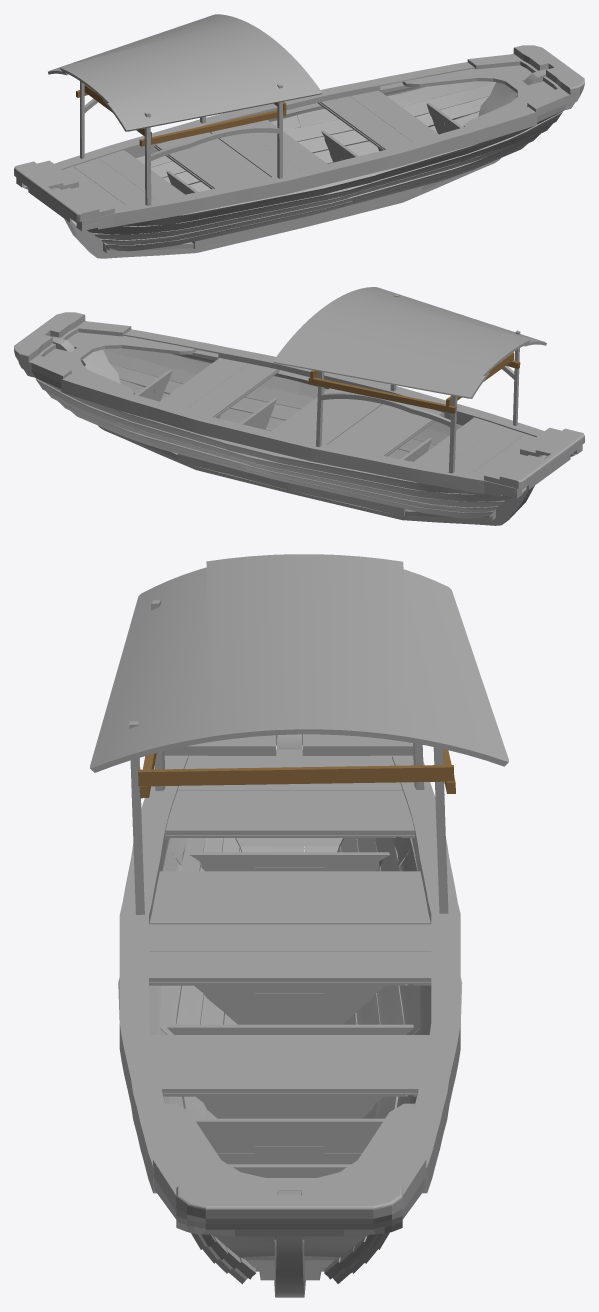
The model's file is SampanUse.fbx.
3 renders of one model, top to bottom at view 1: azimuth 30°, elevation 25°; view 2: azimuth 150°, elevation 25°; view 3: azimuth 270°, elevation 25°, orthographic. The views are drawn at different scales.
Parts seen in each view (by area): view 1: polySurface641, polySurface660, polySurface705, polySurface723, polySurface718, polySurface724, polySurface676, polySurface710, polySurface665, polySurface712, polySurface663, polySurface682 (+38 smaller); view 2: polySurface641, polySurface705, polySurface660, polySurface723, polySurface718, polySurface724, polySurface679, polySurface664, polySurface711, polySurface666, polySurface709, polySurface665 (+38 smaller); view 3: polySurface641, polySurface718, polySurface705, polySurface660, polySurface724, polySurface657, polySurface702, polySurface673, polySurface649, polySurface688, polySurface699, polySurface725 (+33 smaller).
Boxes of the visible parts, left/top/right/bottom form: polySurface641: left=48, top=14, right=322, bottom=131; polySurface660: left=83, top=107, right=537, bottom=229; polySurface705: left=54, top=62, right=474, bottom=169; polySurface723: left=14, top=160, right=114, bottom=231; polySurface718: left=467, top=45, right=584, bottom=122; polySurface724: left=402, top=65, right=554, bottom=126; polySurface676: left=103, top=172, right=465, bottom=253; polySurface710: left=71, top=173, right=375, bottom=226; polySurface665: left=283, top=82, right=495, bottom=141; polySurface712: left=86, top=188, right=347, bottom=234; polySurface663: left=297, top=81, right=494, bottom=127; polySurface682: left=103, top=160, right=494, bottom=258; polySurface641: left=273, top=287, right=546, bottom=398; polySurface705: left=61, top=374, right=515, bottom=496; polySurface660: left=124, top=329, right=544, bottom=437; polySurface723: left=484, top=427, right=584, bottom=498; polySurface718: left=14, top=312, right=131, bottom=388; polySurface724: left=44, top=332, right=196, bottom=394; polySurface679: left=128, top=438, right=495, bottom=520; polySurface664: left=222, top=440, right=526, bottom=494; polySurface711: left=103, top=349, right=314, bottom=409; polySurface666: left=251, top=456, right=512, bottom=501; polySurface709: left=103, top=348, right=301, bottom=394; polySurface665: left=35, top=378, right=255, bottom=463; polySurface641: left=90, top=554, right=508, bottom=772; polySurface718: left=153, top=1159, right=426, bottom=1236; polySurface705: left=392, top=755, right=460, bottom=1193; polySurface660: left=119, top=755, right=188, bottom=1193; polySurface724: left=165, top=1103, right=414, bottom=1190; polySurface657: left=149, top=964, right=431, bottom=985; polySurface702: left=159, top=1075, right=420, bottom=1096; polySurface673: left=194, top=1118, right=384, bottom=1152; polySurface649: left=138, top=765, right=454, bottom=786; polySurface688: left=165, top=817, right=414, bottom=837; polySurface699: left=149, top=937, right=431, bottom=951; polySurface725: left=149, top=910, right=430, bottom=924.
Size of the model in its own units: 34.44 by 12.24 by 12.05.
